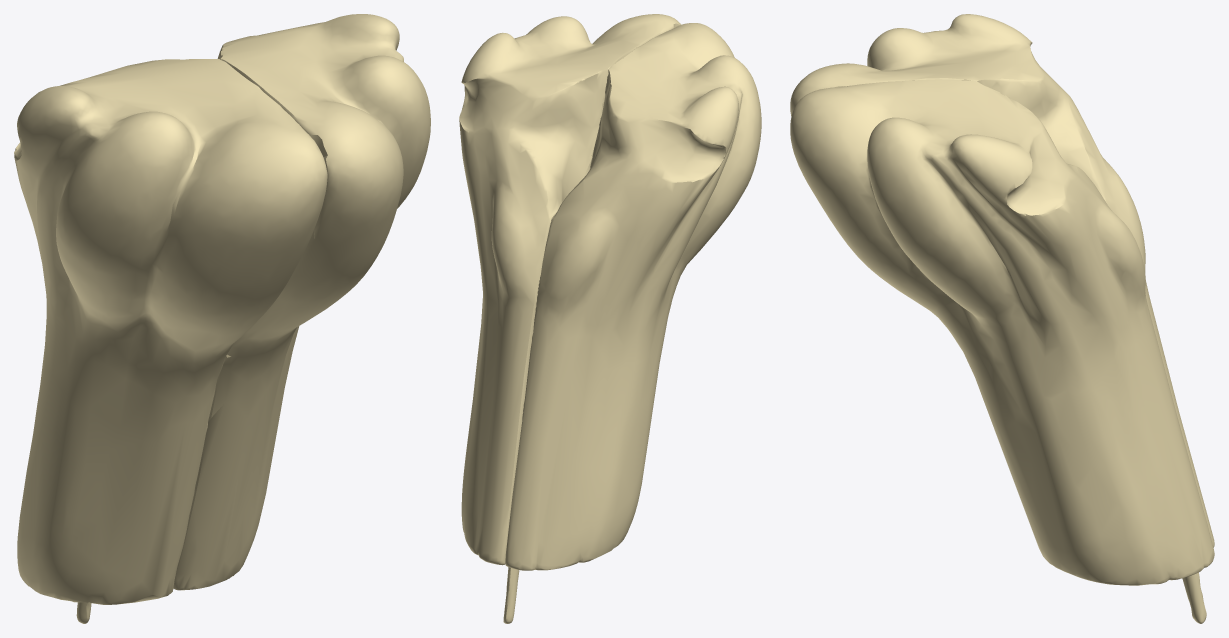
Rendered from medulla-spinal-cord.glb.
3 views of the same model, side by side, from view 1: azimuth 30°, elevation 25°; view 2: azimuth 150°, elevation 25°; view 3: azimuth 270°, elevation 25° (orthographic). The views are drawn at different scales.
Parts seen in each view (by area): view 1: medulla_oblongata; view 2: medulla_oblongata, spinal_cord; view 3: medulla_oblongata, spinal_cord.
Boxes of the visible parts, bbox=[...] form: medulla_oblongata: bbox=[14, 14, 430, 604]; medulla_oblongata: bbox=[459, 14, 761, 570]; spinal_cord: bbox=[503, 567, 519, 623]; medulla_oblongata: bbox=[790, 14, 1214, 585]; spinal_cord: bbox=[1182, 572, 1206, 623].
Bounding box in the file's own units: 0.0267 × 0.0472 × 0.0332.
